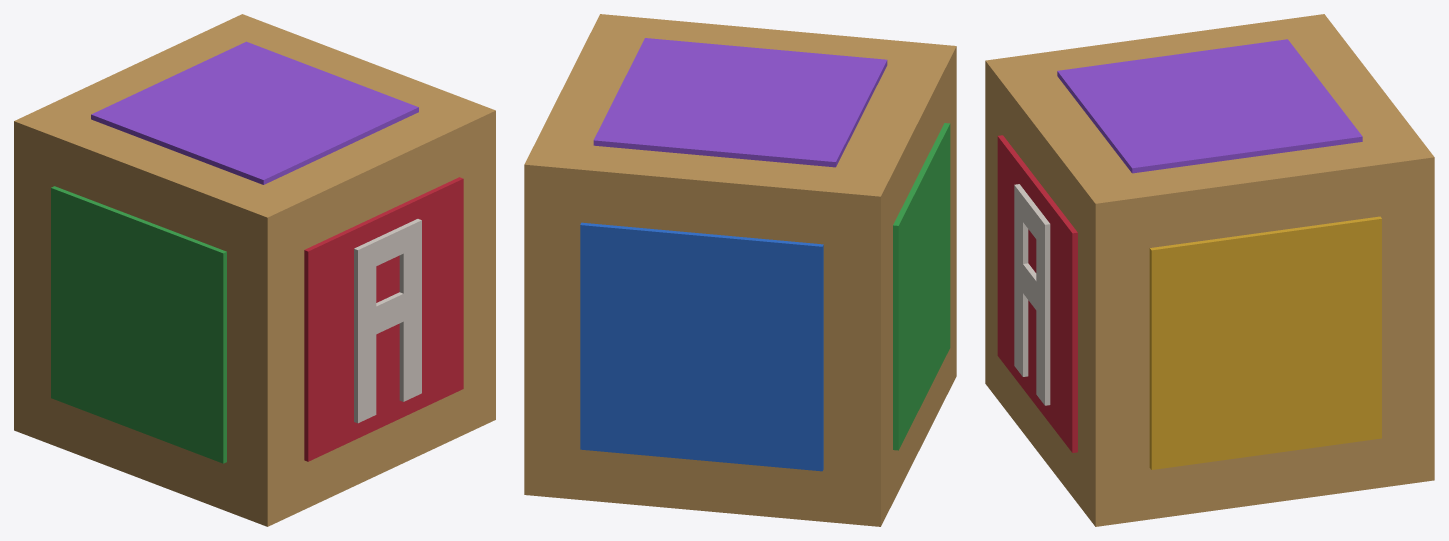
Rendered from alphabet_block.glb.
3 views of the same model, side by side, from view 1: azimuth 30°, elevation 25°; view 2: azimuth 150°, elevation 25°; view 3: azimuth 270°, elevation 25° (orthographic). The views are drawn at different scales.
Visible parts, largest first — view 1: alphabet_block; view 2: alphabet_block; view 3: alphabet_block.
Boxes of the visible parts, x1,y1,x2,y2 form: alphabet_block: (14, 14, 495, 526); alphabet_block: (524, 14, 956, 526); alphabet_block: (985, 14, 1434, 526).
Size of the model in its own units: 0.63 by 0.508 by 0.63.
